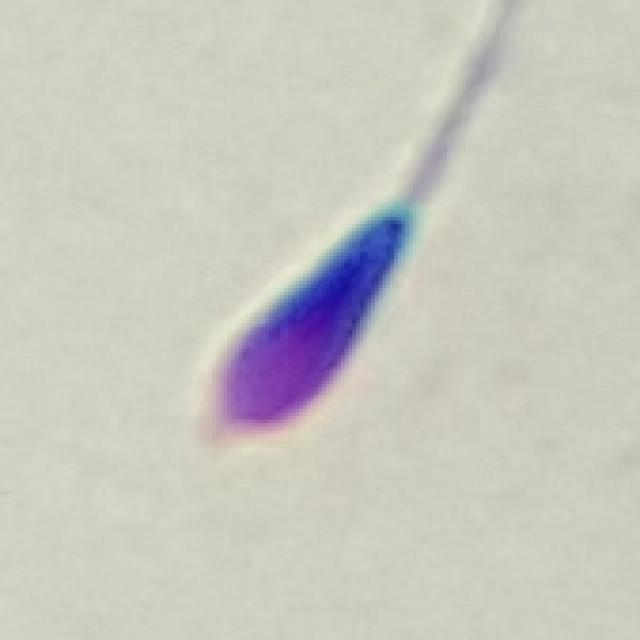abnormal sperm: (202, 87, 473, 441)
